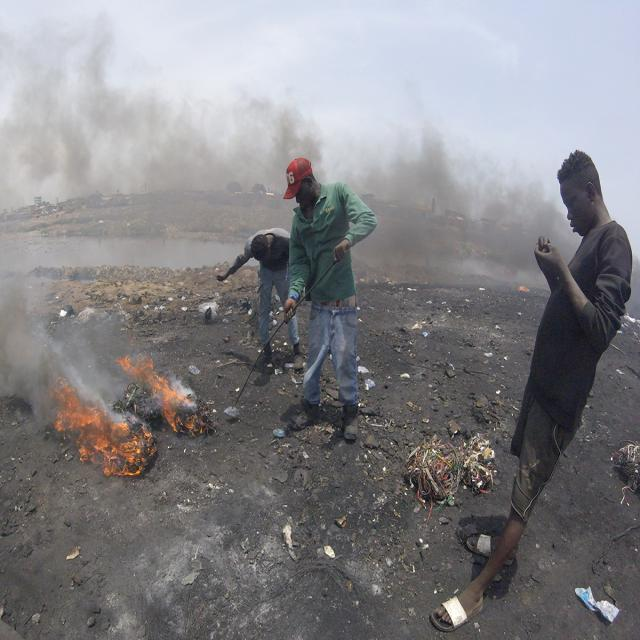Fire: (69, 413, 144, 478)
Smoke: (44, 98, 229, 208), (6, 315, 103, 383)
